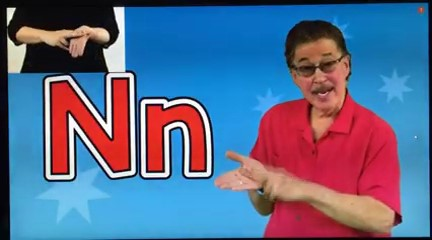N: (213, 144, 310, 211)
